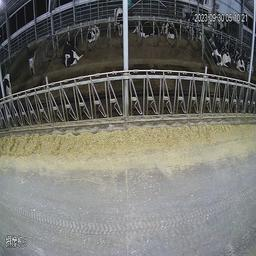cow: (212, 39, 232, 70), (62, 36, 80, 66), (231, 45, 245, 72), (137, 19, 153, 39), (113, 7, 123, 36), (86, 25, 101, 43), (162, 21, 176, 40)
